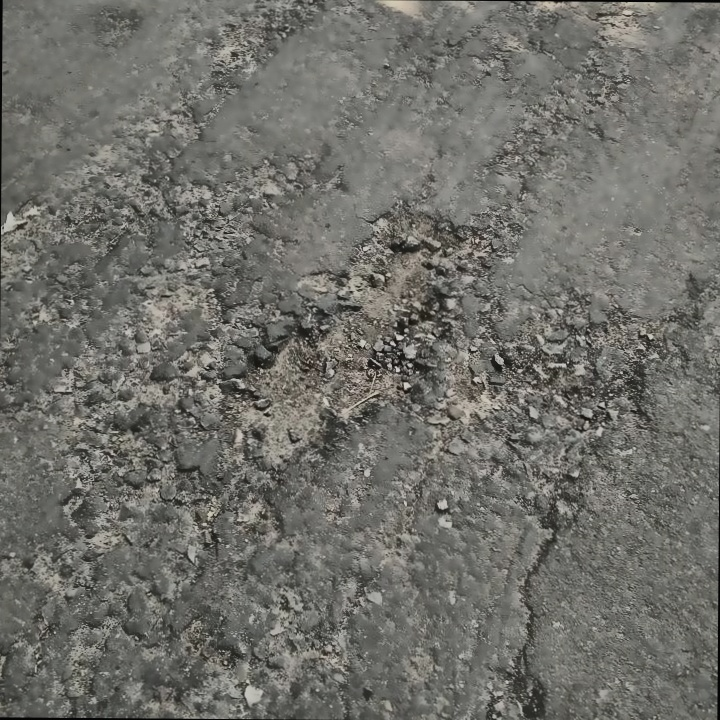pothole: (226, 195, 503, 464)
